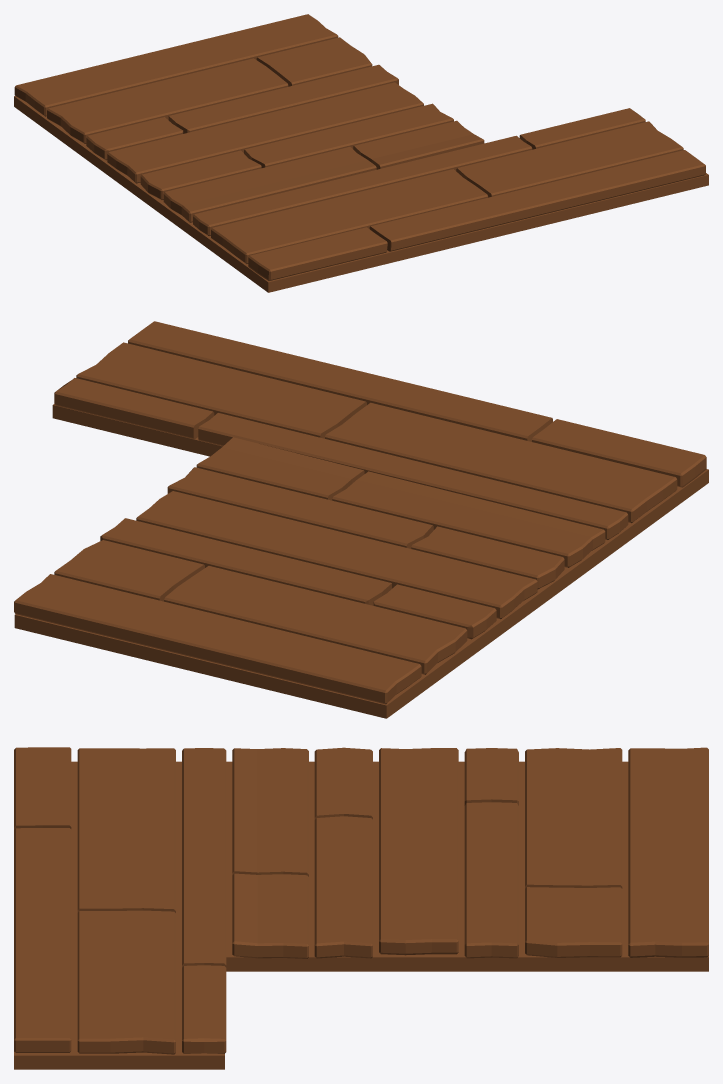
Rendered from ww_floor_d.glb.
The picture shows the model from 3 angles, top to bottom: view 1: azimuth 30°, elevation 25°; view 2: azimuth 150°, elevation 25°; view 3: azimuth 270°, elevation 25°; orthographic projection. The views are drawn at different scales.
Parts seen in each view (by area): view 1: Floor_D; view 2: Floor_D; view 3: Floor_D.
Part boxes in pixels (<box>): Floor_D: <box>14,14,708,292</box>; Floor_D: <box>14,321,708,718</box>; Floor_D: <box>14,747,708,1069</box>.
Size of the model in its own units: 4.93 by 0.246 by 4.93.
